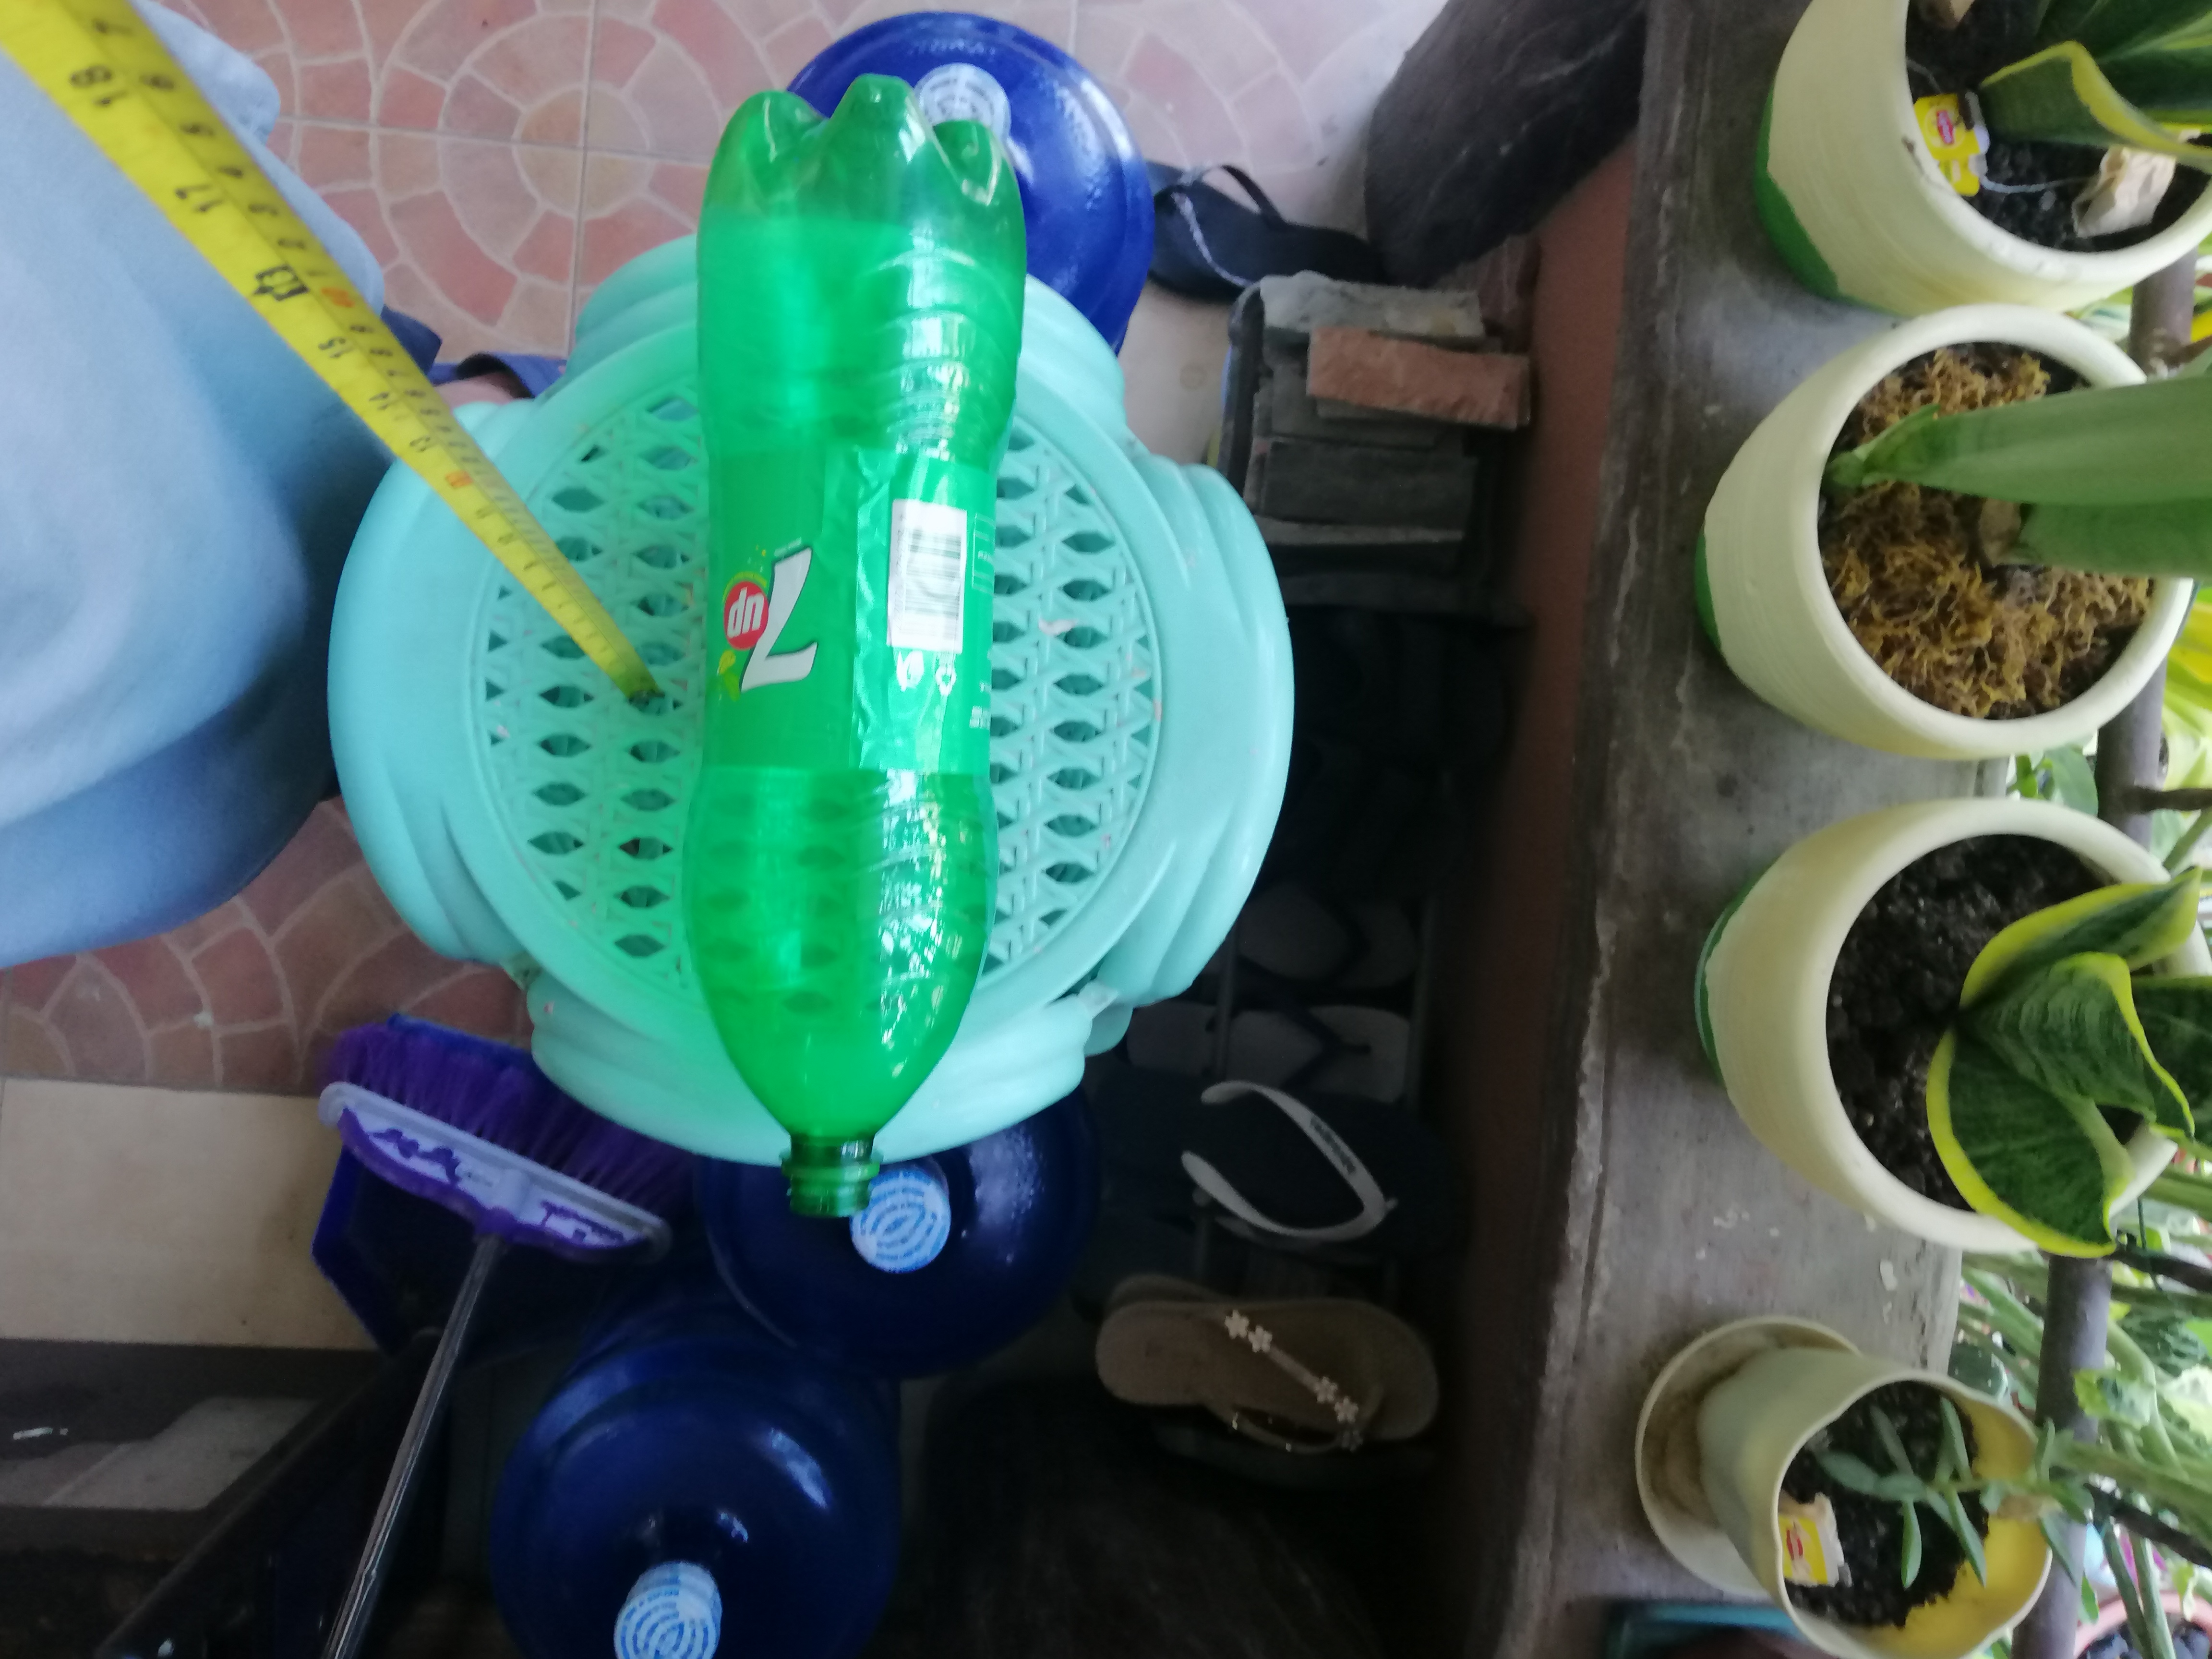bottle: (698, 75, 998, 1216)
plant: (1681, 795, 2205, 1244), (1723, 295, 2200, 746), (1656, 1317, 2071, 1645), (1756, 3, 2212, 288)
